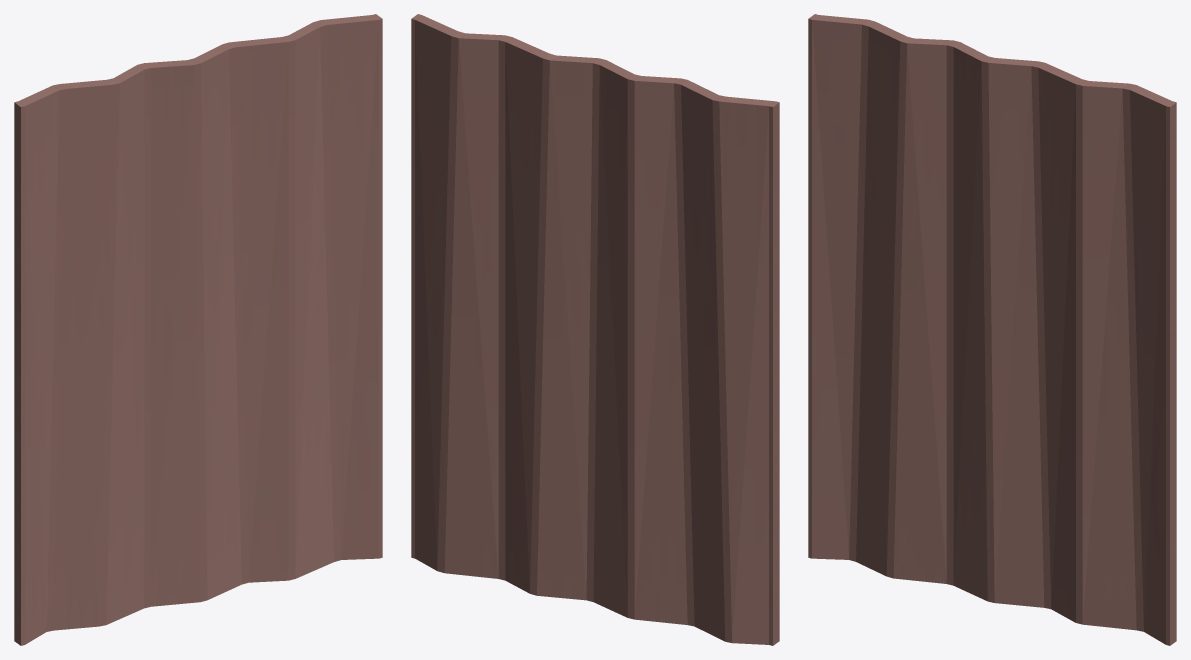
Rendered from metal_board_2.dae.
The picture shows the model from 3 angles, left to right: view 1: azimuth 30°, elevation 25°; view 2: azimuth 150°, elevation 25°; view 3: azimuth 330°, elevation 25°; orthographic projection.
Visible parts, largest first — view 1: metal_board_2; view 2: metal_board_2; view 3: metal_board_2.
Boxes of the visible parts, <box> form: metal_board_2: <box>14,14,382,645</box>; metal_board_2: <box>411,14,779,645</box>; metal_board_2: <box>808,14,1176,645</box>.
Bounding box in the file's own units: 1.11 × 0.076 × 1.58.
